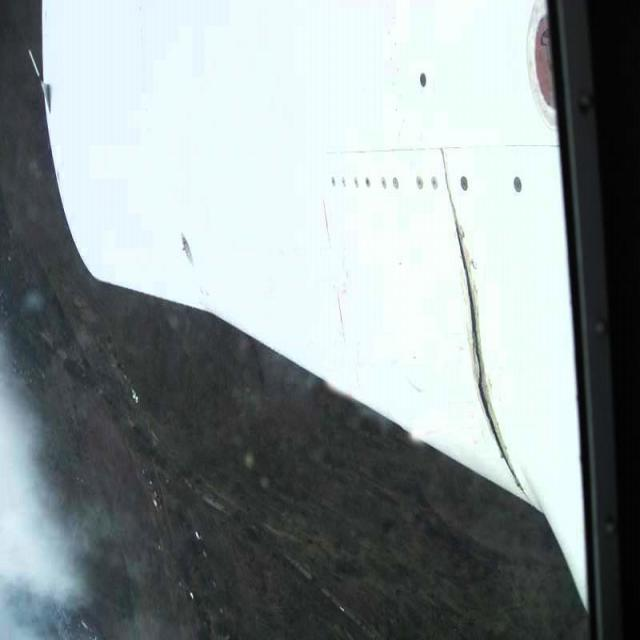crack: (430, 151, 534, 504)
